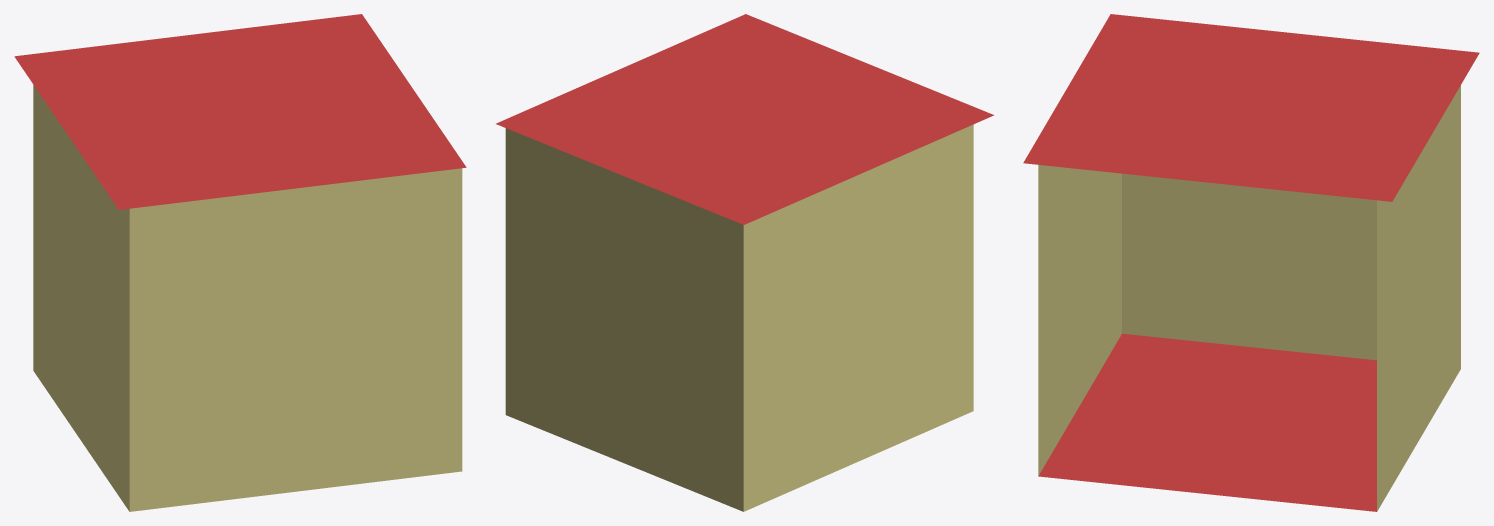
3 renders of one model, left to right at view 1: azimuth 30°, elevation 25°; view 2: azimuth 150°, elevation 25°; view 3: azimuth 270°, elevation 25°, orthographic. The views are drawn at different scales.
Size of the model in its own units: 7.1 by 7.29 by 5.49.
